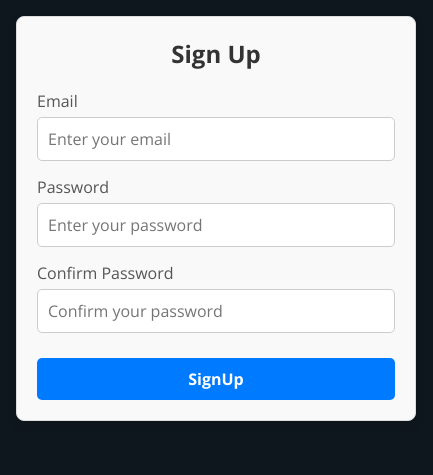
SignUpForm › displays an error when passwords do not match
// Simulate filling in the form with mismatched passwords
Type "test@example.com" into the field labelled "Email" at point(216, 139), box x1=37 y1=117 x2=395 y2=161
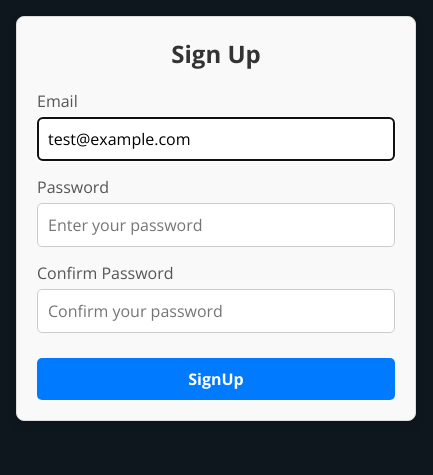
Type "password123" into the password field with placeholder "Enter your password" at point(216, 225), box x1=37 y1=203 x2=395 y2=247
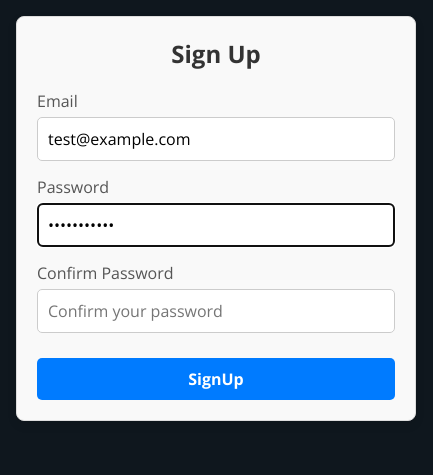
Type "password321" into the password field with placeholder "Confirm your password" at point(216, 311), box x1=37 y1=289 x2=395 y2=333
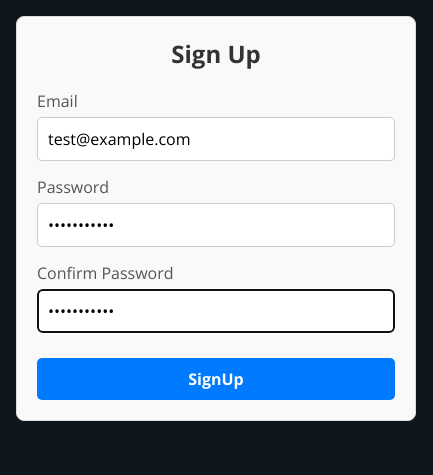
// Submit the form
Click the button "SignUp" at point(216, 379), box x1=37 y1=358 x2=395 y2=400
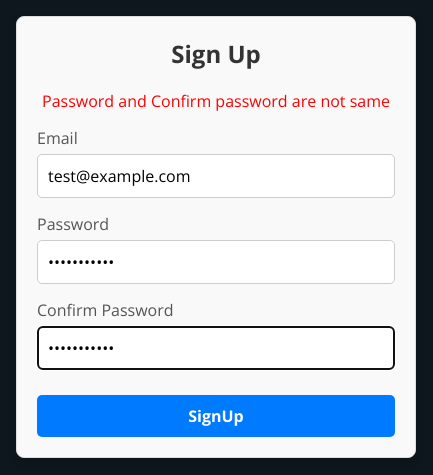
Check: the text "Password and Confirm password are not same" is shown, box x1=37 y1=90 x2=395 y2=112
